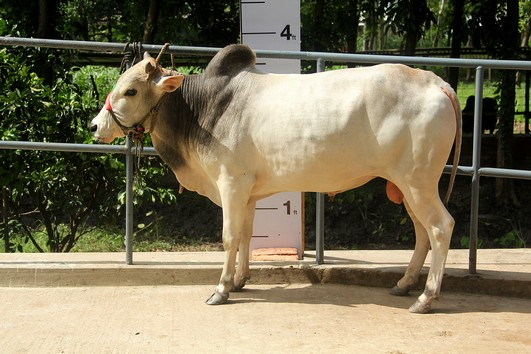cow: (81, 37, 465, 321)
